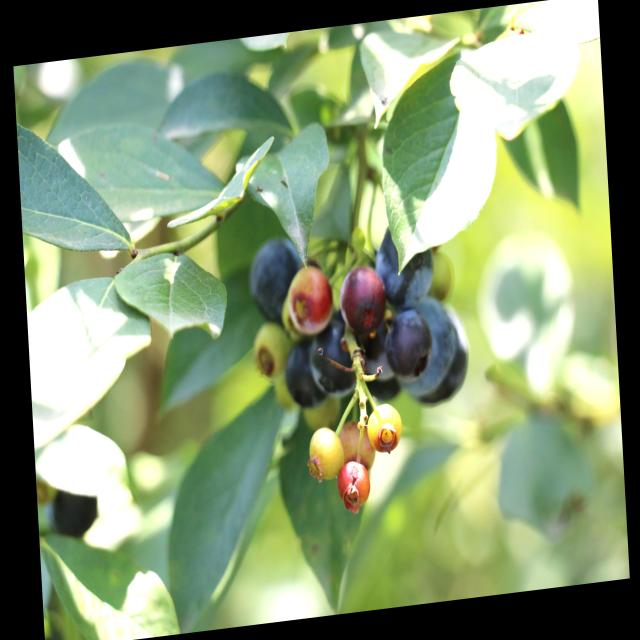blueberry: (390, 285, 464, 410), (367, 215, 441, 319), (413, 309, 479, 418), (303, 311, 369, 409), (243, 226, 305, 326), (279, 329, 335, 417), (380, 305, 435, 386), (352, 315, 398, 400)
blueberry-halfripe: (340, 262, 385, 328), (288, 263, 333, 328), (336, 457, 372, 509)
blueberry-unripe: (252, 318, 291, 380), (308, 423, 345, 480), (366, 402, 403, 456)
